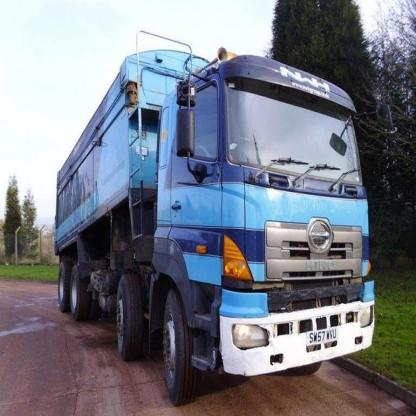dump_truck: (43, 44, 373, 400)
